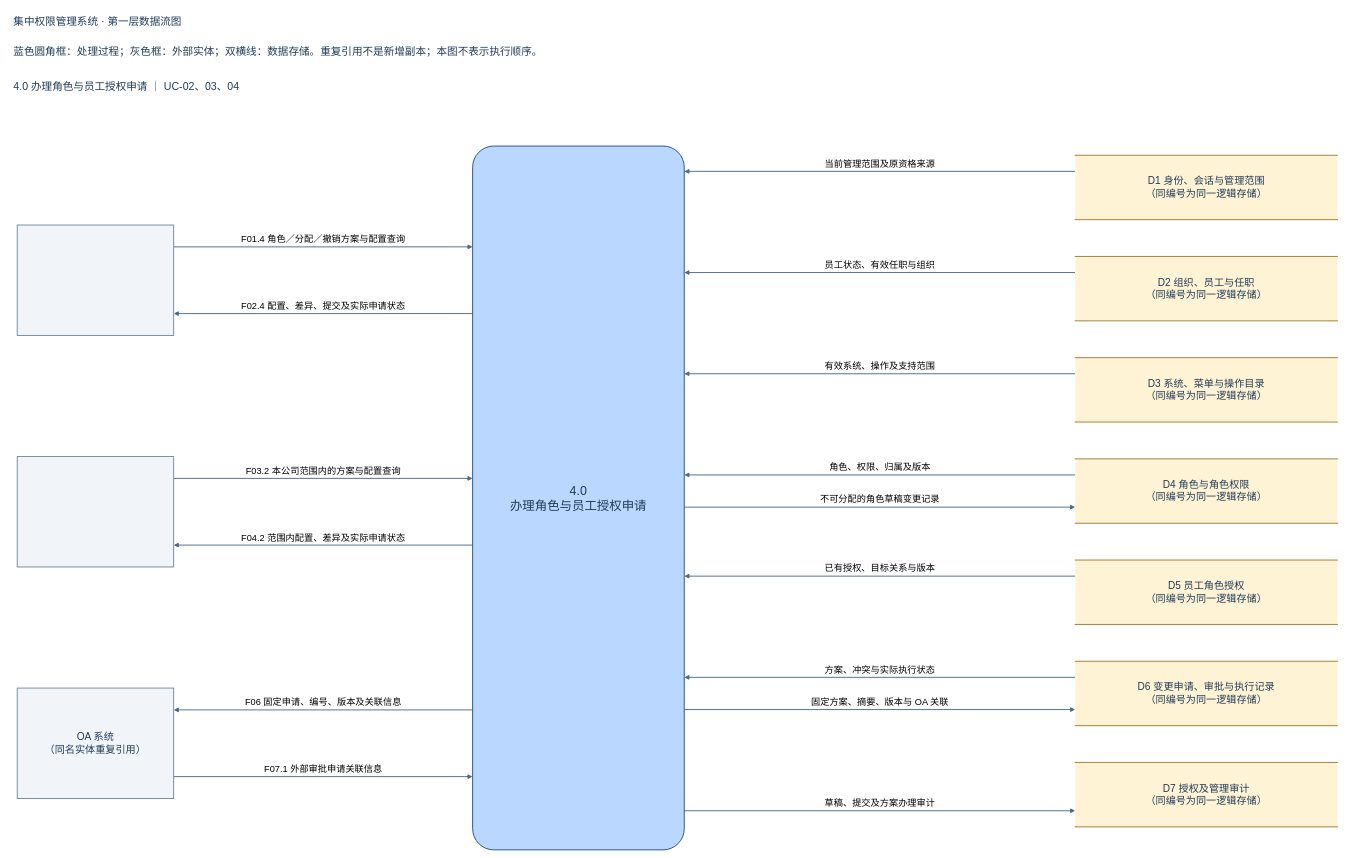
The diagram is 1368 pixels wide and 858 high, and some of its shapes have lost their labels. The shapes that lost their labels are listed below. From the top down, each one's centre as x and y in pixels, then its label:
the point at 95,280: 权限中心总管理员 （同名实体重复引用）
the point at 95,511: 公司权限管理专员 （同名实体重复引用）
